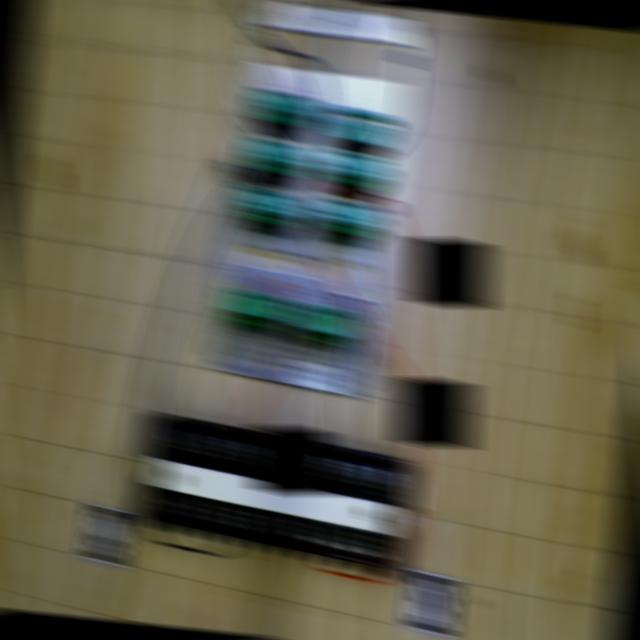Flathead_Block: (125, 411, 426, 580)
Terminal_1: (290, 300, 358, 346), (220, 286, 288, 330)
Terminal_2: (321, 148, 386, 189), (315, 196, 379, 237), (236, 185, 300, 226), (243, 137, 307, 176), (250, 88, 314, 127)
